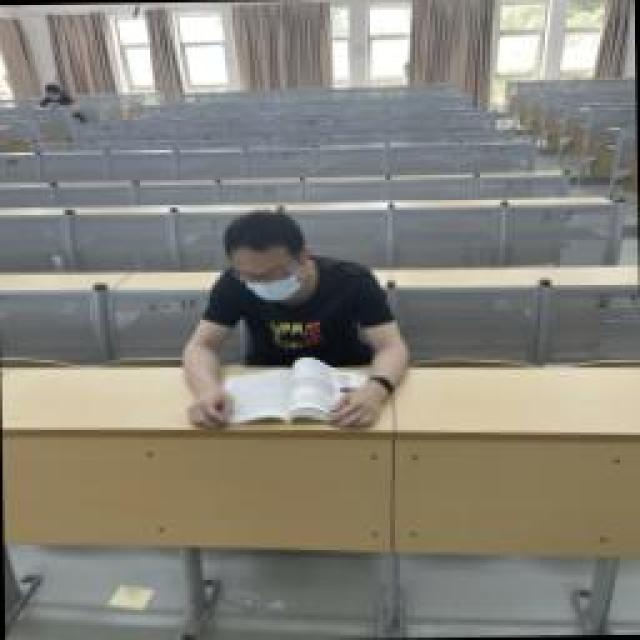study: (180, 208, 415, 430)
